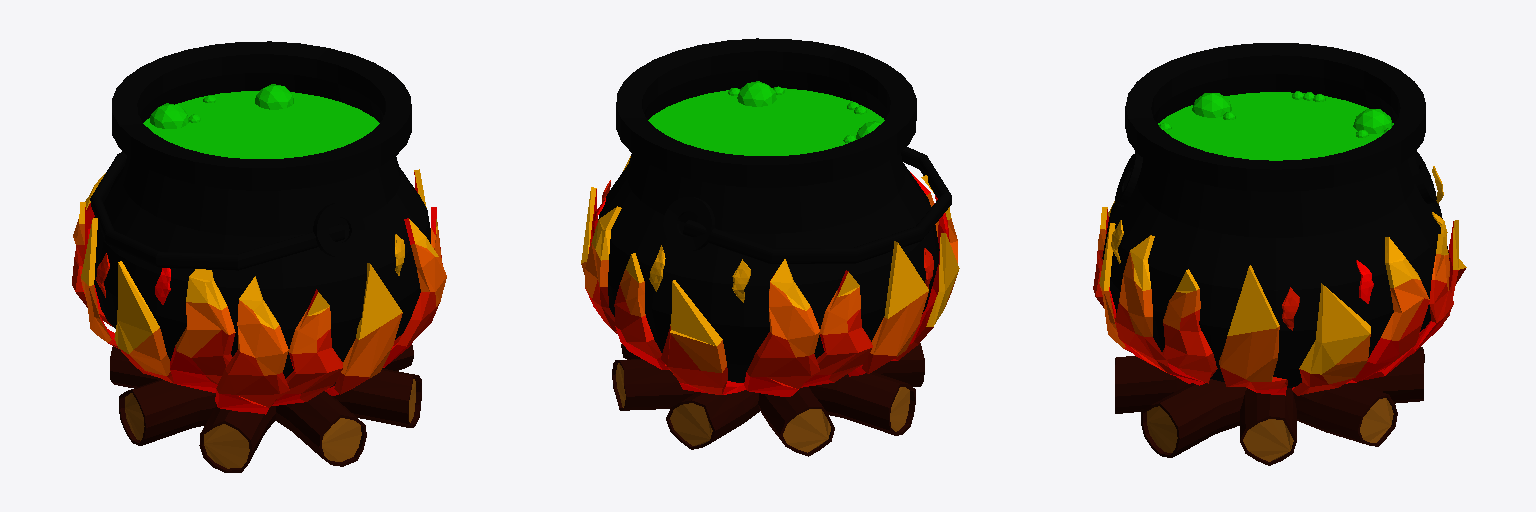
Rendered from cauldron.obj.
3 renders of one model, left to right at view 1: azimuth 30°, elevation 25°; view 2: azimuth 150°, elevation 25°; view 3: azimuth 270°, elevation 25°, orthographic.
Parts seen in each view (by area): view 1: cauldron_Cylinder, flames_Plane.018, logs_Cylinder.005, bubbles_Icosphere.021; view 2: cauldron_Cylinder, flames_Plane.018, logs_Cylinder.005, bubbles_Icosphere.021; view 3: cauldron_Cylinder, flames_Plane.018, logs_Cylinder.005, bubbles_Icosphere.021.
Part boxes in pixels (x1,y1,x2,y2): cauldron_Cylinder: (90,41,430,378); flames_Plane.018: (72,169,446,414); logs_Cylinder.005: (110,345,421,472); bubbles_Icosphere.021: (150,84,293,128); cauldron_Cylinder: (598,38,951,382); flames_Plane.018: (581,156,959,396); logs_Cylinder.005: (612,343,924,456); bubbles_Icosphere.021: (728,81,881,142); cauldron_Cylinder: (1102,43,1449,387); flames_Plane.018: (1093,166,1466,395); logs_Cylinder.005: (1115,347,1424,465); bubbles_Icosphere.021: (1159,91,1392,137).
Bounding box in the file's own units: 0.6711 × 0.5915 × 0.6603.